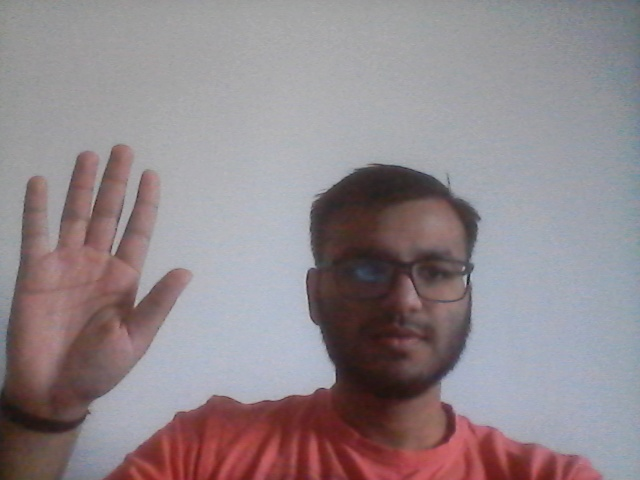Hello: (7, 143, 200, 399)
